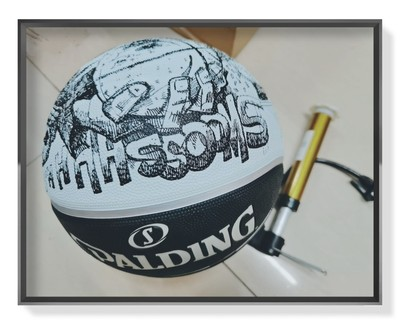ball: (41, 37, 285, 279)
